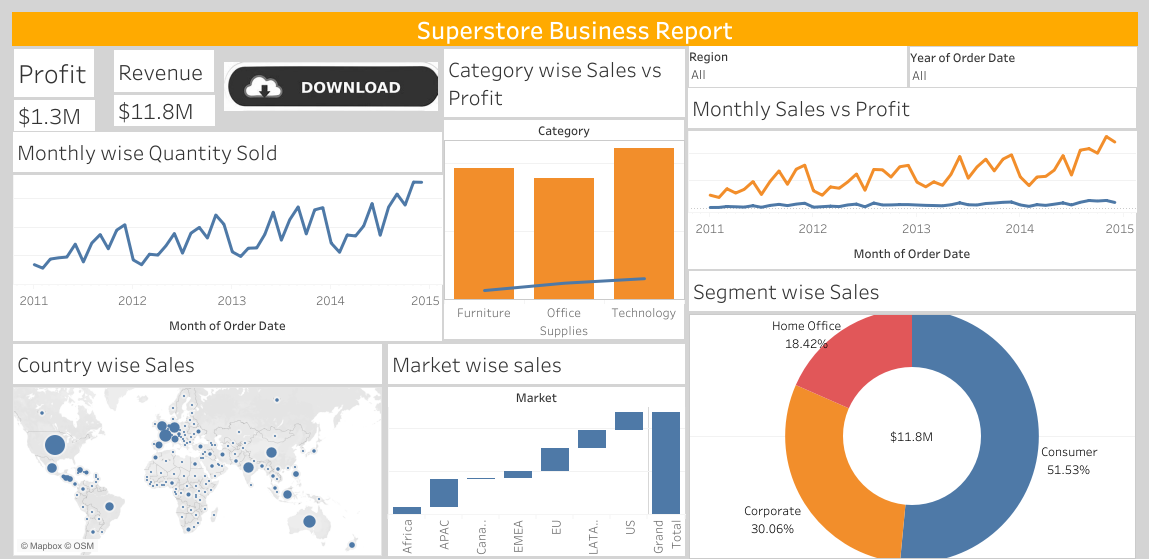

The dashboard page shown, as its layout file describes it:
{"tool":"tableau","page":{"name":"Dashboard 1","canvas":[1000,1000],"units":"permille","ordinal":0},"visuals":[{"type":"title","box":[7,13.9,986,71.2]},{"type":"filter","title":"Category wise Sales vs Profit","param":"[federated.054lo4w0v9yt5610m7ors12mlxu3].[none:Region:nk]","box":[598.8,81.6,189.6,72.9]},{"type":"dashboard-object","box":[194.9,83.3,186.1,142.4]},{"type":"filter","title":"Category wise Sales vs Profit","param":"[federated.054lo4w0v9yt5610m7ors12mlxu3].[yr:Order Date:ok]","box":[791,83.3,197.5,71.2]},{"type":"worksheet","title":"Profit","mark":"Automatic","box":[12.3,86.8,91.3,163.2]},{"type":"worksheet","title":"Category wise Sales vs Profit","mark":"Automatic","rows":["Sales","Profit"],"cols":["Category"],"box":[386.3,86.8,209,520.8]},{"type":"worksheet","title":"Revenue","mark":"Automatic","box":[99.2,88.5,96.6,151]},{"type":"worksheet","title":"Monthly Sales vs Profit ","mark":"Automatic","cols":["Order Date"],"box":[597.9,156.2,389.8,324.7]},{"type":"worksheet","title":"Monthly wise Quantity Sold","mark":"Automatic","rows":["Quantity"],"cols":["Order Date"],"box":[11.4,236.1,373.1,373.3]},{"type":"worksheet","title":"Segment wise Sales","mark":"Pie","rows":["Calculation_568298003189108736","Calculation_568298003189108736"],"box":[598.8,484.4,388.9,513.9]},{"type":"worksheet","title":"Country wise Sales","mark":"Automatic","box":[11.4,614.6,320.5,378.5]},{"type":"worksheet","title":"Market wise sales","mark":"GanttBar","rows":["Sales"],"cols":["Market"],"box":[337.1,614.6,258.1,380.2]}]}

Visuals, with their boxes on the dashboard's canvas, which has no fixed pixel size, in thousandths of its width and height (x1, y1, x2, y2). These are canvas units, not pixel positions in the 1149x559 screenshot, which may show the page scaled, cropped or inside an application window:
title: x1=7 y1=14 x2=993 y2=85
"Category wise Sales vs Profit" filter: x1=599 y1=82 x2=788 y2=154
dashboard-object: x1=195 y1=83 x2=381 y2=226
"Category wise Sales vs Profit" filter: x1=791 y1=83 x2=988 y2=154
"Profit" worksheet: x1=12 y1=87 x2=104 y2=250
"Category wise Sales vs Profit" worksheet: x1=386 y1=87 x2=595 y2=608
"Revenue" worksheet: x1=99 y1=88 x2=196 y2=240
"Monthly Sales vs Profit " worksheet: x1=598 y1=156 x2=988 y2=481
"Monthly wise Quantity Sold" worksheet: x1=11 y1=236 x2=384 y2=609
"Segment wise Sales" worksheet (Pie marks): x1=599 y1=484 x2=988 y2=998
"Country wise Sales" worksheet: x1=11 y1=615 x2=332 y2=993
"Market wise sales" worksheet (GanttBar marks): x1=337 y1=615 x2=595 y2=995
